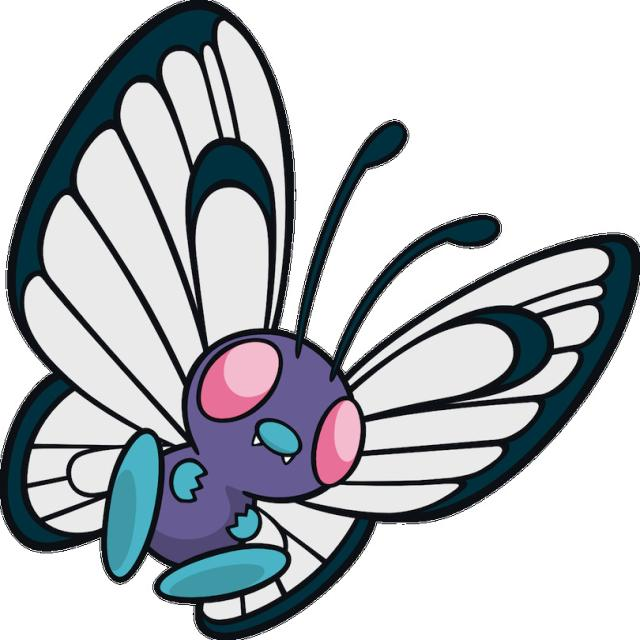Butterfree: (4, 131, 537, 615)
